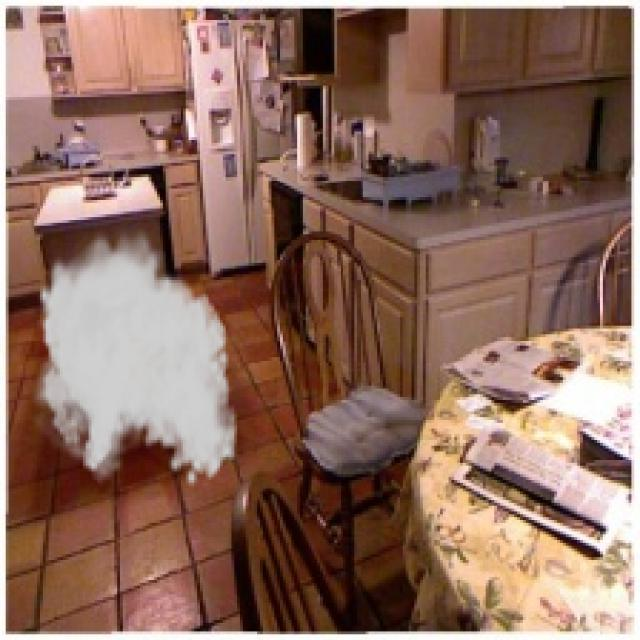Smoke: (26, 223, 240, 488)
